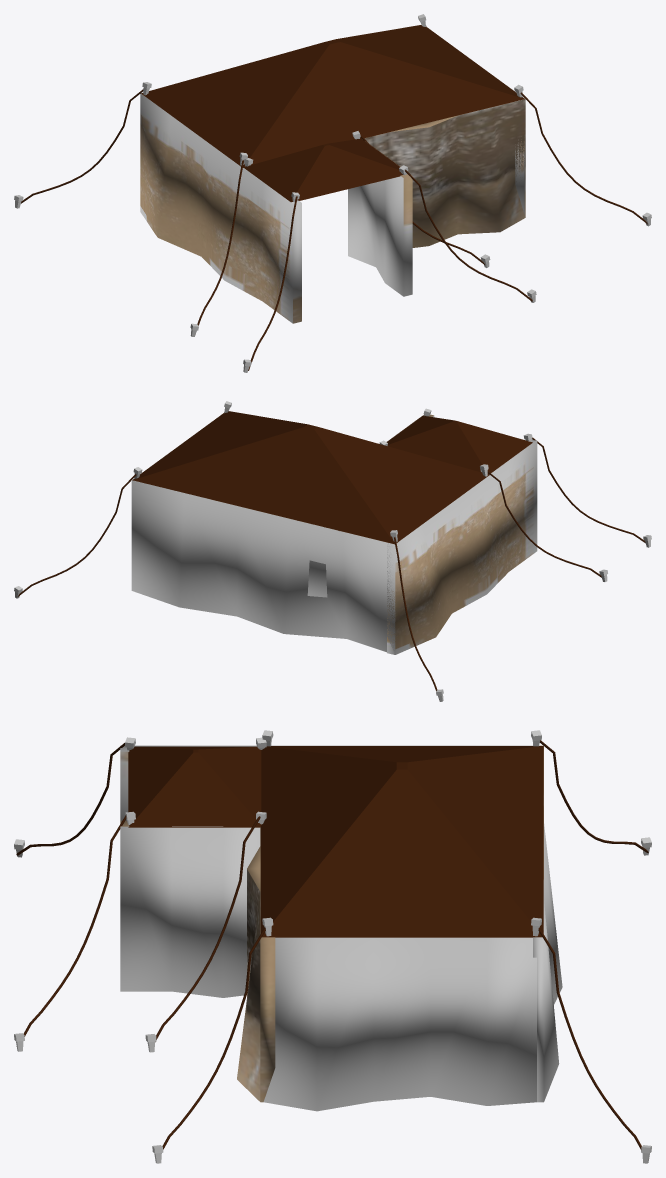
File: Barrack.fbx
3 views of the same model, one above another, from view 1: azimuth 30°, elevation 25°; view 2: azimuth 150°, elevation 25°; view 3: azimuth 270°, elevation 25° (orthographic). The views are drawn at different scales.
Visible parts, largest first — view 1: Cube.001, Cube.004, Cube.002, Cube.005, Cube.006, Cube.015, Cube.009, Cube; view 2: Cube.003, Cube.001, Cube.004, Cube.006, Cube.015; view 3: Cube.001, Cube, Cube.005, Cube.006, Cube.002, Cube.003, Cube.015, Cube.009, Cube.004, Cube.013.
Part boxes in pixels (<box>): Cube.001: <box>141,25,524,167</box>; Cube.004: <box>140,93,301,323</box>; Cube.002: <box>364,97,525,247</box>; Cube.005: <box>348,141,412,296</box>; Cube.006: <box>244,138,402,202</box>; Cube.015: <box>21,26,647,325</box>; Cube.009: <box>248,169,532,370</box>; Cube: <box>515,100,524,214</box>; Cube.003: <box>131,478,398,654</box>; Cube.001: <box>132,411,489,544</box>; Cube.004: <box>387,439,537,654</box>; Cube.006: <box>387,415,532,474</box>; Cube.015: <box>17,412,601,699</box>; Cube.001: <box>260,746,543,937</box>; Cube: <box>263,930,543,1111</box>; Cube.005: <box>120,820,260,997</box>; Cube.006: <box>128,746,261,827</box>; Cube.002: <box>237,827,275,1102</box>; Cube.003: <box>533,745,562,1102</box>; Cube.015: <box>162,740,648,1149</box>; Cube.009: <box>16,743,126,1036</box>; Cube.004: <box>120,745,532,820</box>; Cube.013: <box>155,816,260,1042</box>.
Size of the model in its own units: 823 by 299 by 712.
